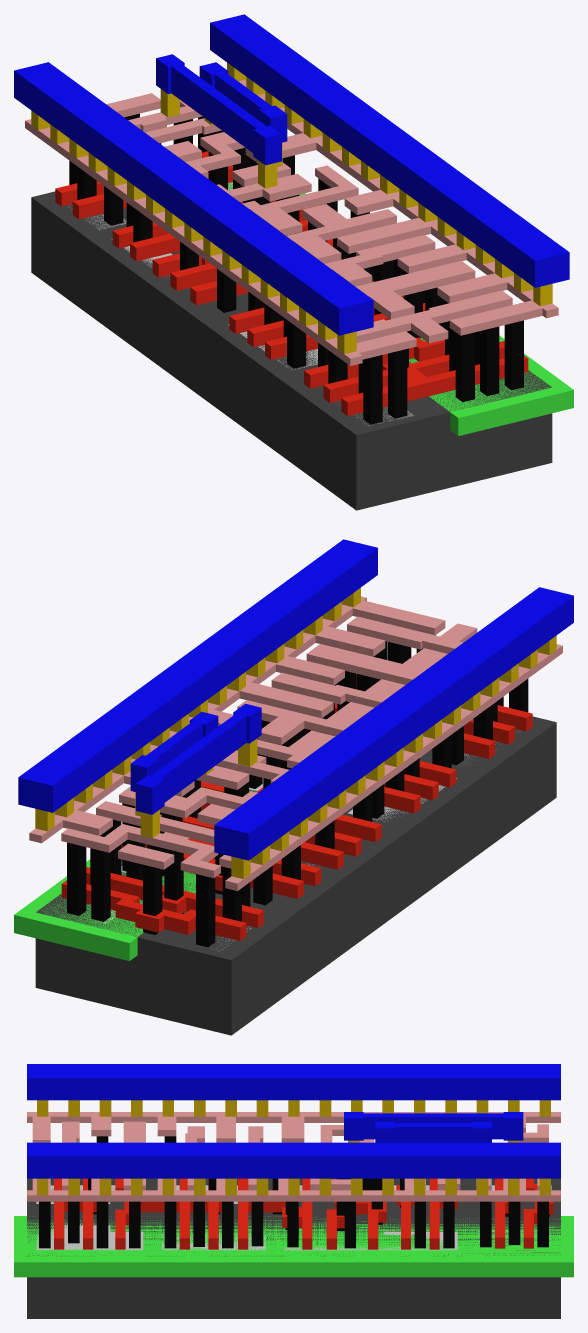
Rendered from sky130_fd_sc_hd__dlxbn_2.obj.
The picture shows the model from 3 angles, top to bottom: view 1: azimuth 30°, elevation 25°; view 2: azimuth 150°, elevation 25°; view 3: azimuth 270°, elevation 25°; orthographic projection. The views are drawn at different scales.
Parts seen in each view (by area): view 1: metal1, subs, li, licon, poly, mcon, nwell, diff; view 2: metal1, subs, li, licon, poly, mcon, nwell; view 3: metal1, subs, nwell, li, licon, poly, mcon, tap.
Boxes of the visible parts, bbox=[...] form: metal1: bbox=[14, 14, 569, 335]; subs: bbox=[31, 182, 552, 510]; li: bbox=[25, 79, 558, 365]; licon: bbox=[69, 113, 523, 424]; poly: bbox=[55, 151, 528, 415]; mcon: bbox=[31, 62, 552, 353]; nwell: bbox=[228, 182, 573, 435]; diff: bbox=[54, 197, 413, 425]; metal1: bbox=[18, 539, 573, 860]; subs: bbox=[35, 716, 556, 1035]; li: bbox=[29, 596, 562, 890]; licon: bbox=[67, 635, 528, 947]; poly: bbox=[61, 674, 532, 940]; mcon: bbox=[35, 587, 556, 878]; nwell: bbox=[14, 736, 335, 960]; metal1: bbox=[27, 1064, 560, 1178]; subs: bbox=[27, 1178, 560, 1318]; nwell: bbox=[14, 1216, 573, 1277]; li: bbox=[27, 1112, 560, 1201]; licon: bbox=[39, 1136, 549, 1248]; poly: bbox=[54, 1178, 553, 1249]; mcon: bbox=[37, 1100, 550, 1195]; tap: bbox=[36, 1224, 551, 1250].
Bounding box in the file's own units: 3.2 × 2.74 × 8.2.
